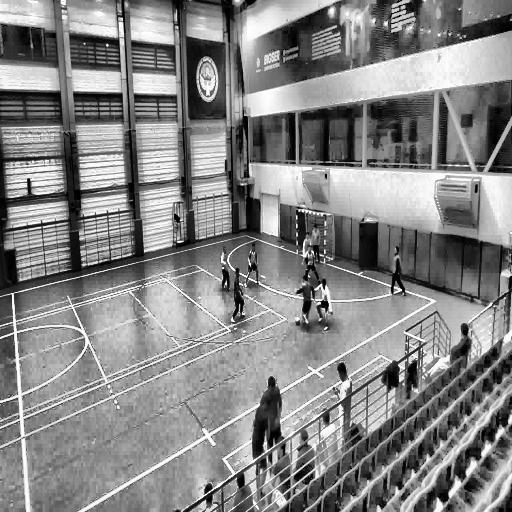ball: (295, 315, 301, 328)
player: (297, 270, 316, 328), (315, 276, 331, 328), (389, 246, 405, 296), (303, 243, 321, 286), (231, 265, 245, 320), (245, 242, 261, 288), (220, 246, 232, 292), (301, 232, 314, 273), (311, 222, 322, 266)
